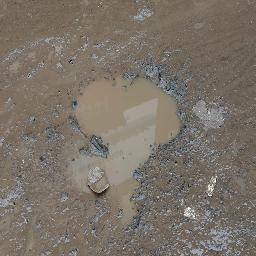water accumulation: (63, 71, 183, 230)
